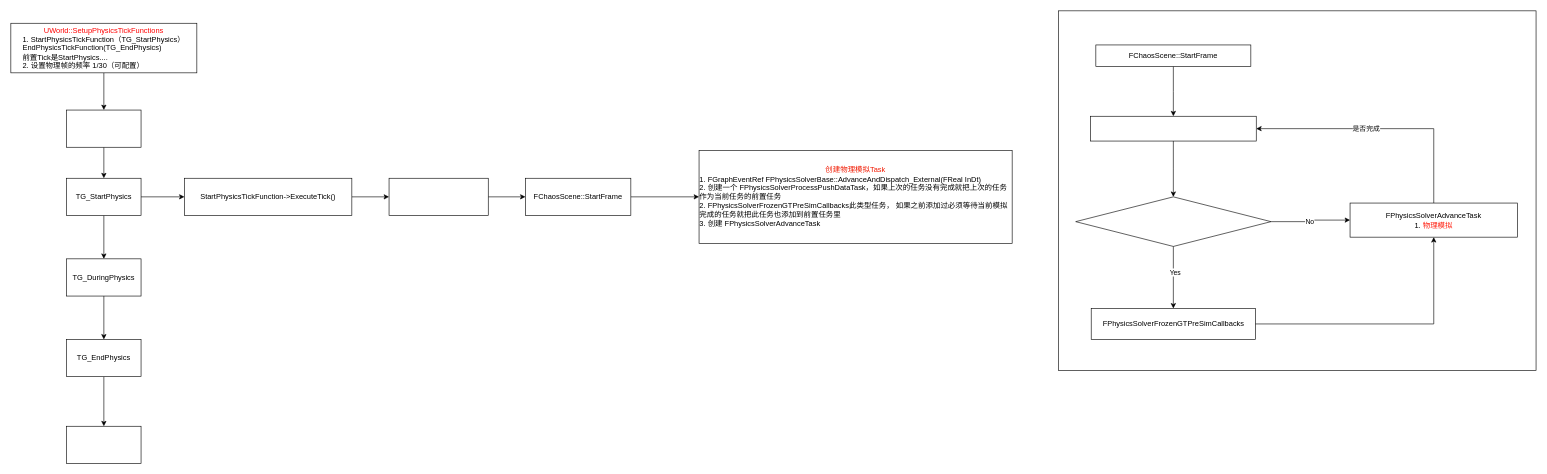
Image size: 1547x474. Some labels were removed from this diagram. Here are the shapes that lost their labels. From the top down, the box of each, then its label:
(66, 109, 141, 147): TG_PrePhysics
(1090, 116, 1256, 141): FPhysicsSolverProcessPushDataTask
(388, 178, 488, 215): UWorld::StartPhysicsSim()
(1075, 196, 1271, 246): bSolverHasFrozenGameThreadCallbacks
(66, 426, 141, 463): TG_PostPhysics
